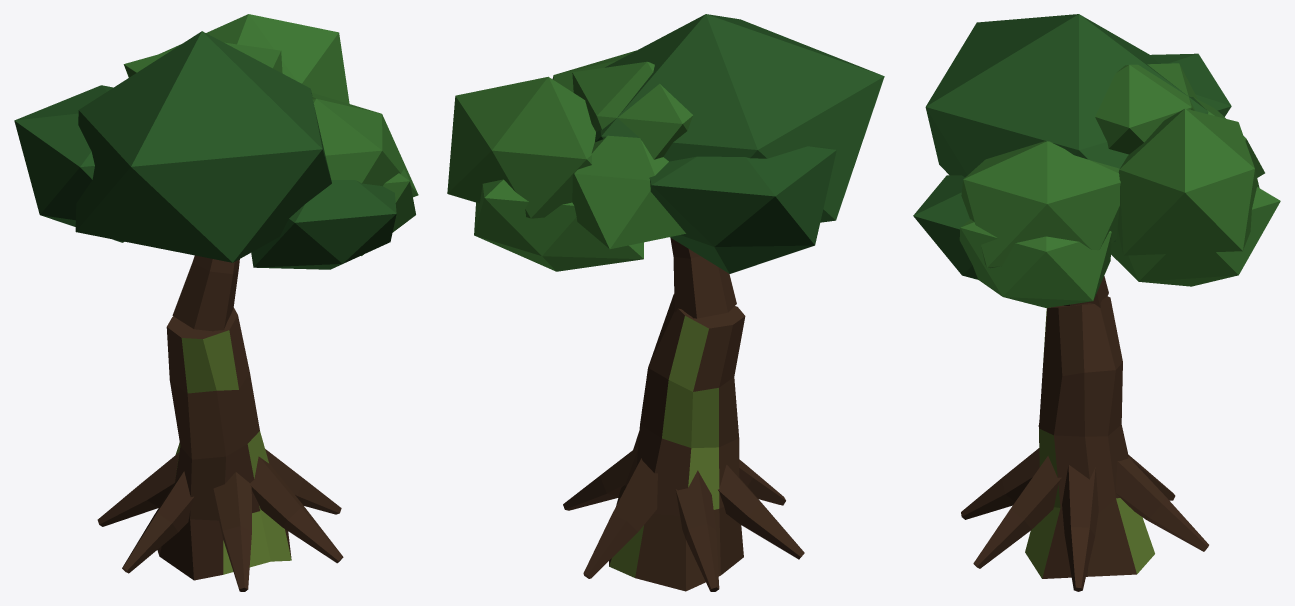
Rendered from Tree_Ancient_B.glb.
3 views of the same model, side by side, from view 1: azimuth 30°, elevation 25°; view 2: azimuth 150°, elevation 25°; view 3: azimuth 270°, elevation 25° (orthographic). The views are drawn at different scales.
Visible parts, largest first — view 1: Tree_Ancient_B; view 2: Tree_Ancient_B; view 3: Tree_Ancient_B.
Boxes of the visible parts, x1=… form: Tree_Ancient_B: x1=14, y1=14, x2=418, y2=591; Tree_Ancient_B: x1=447, y1=14, x2=884, y2=591; Tree_Ancient_B: x1=913, y1=14, x2=1280, y2=591.
Size of the model in its own units: 3.94 by 6.19 by 3.88.
